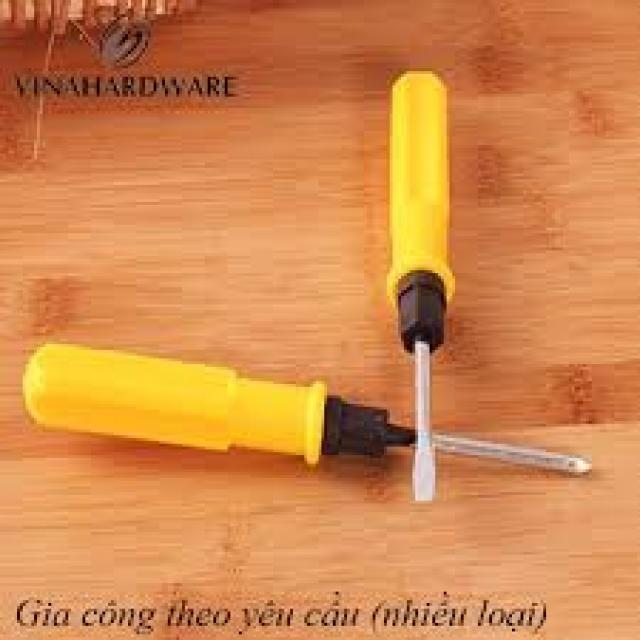screwdriver: (22, 338, 600, 484), (372, 61, 467, 514)
